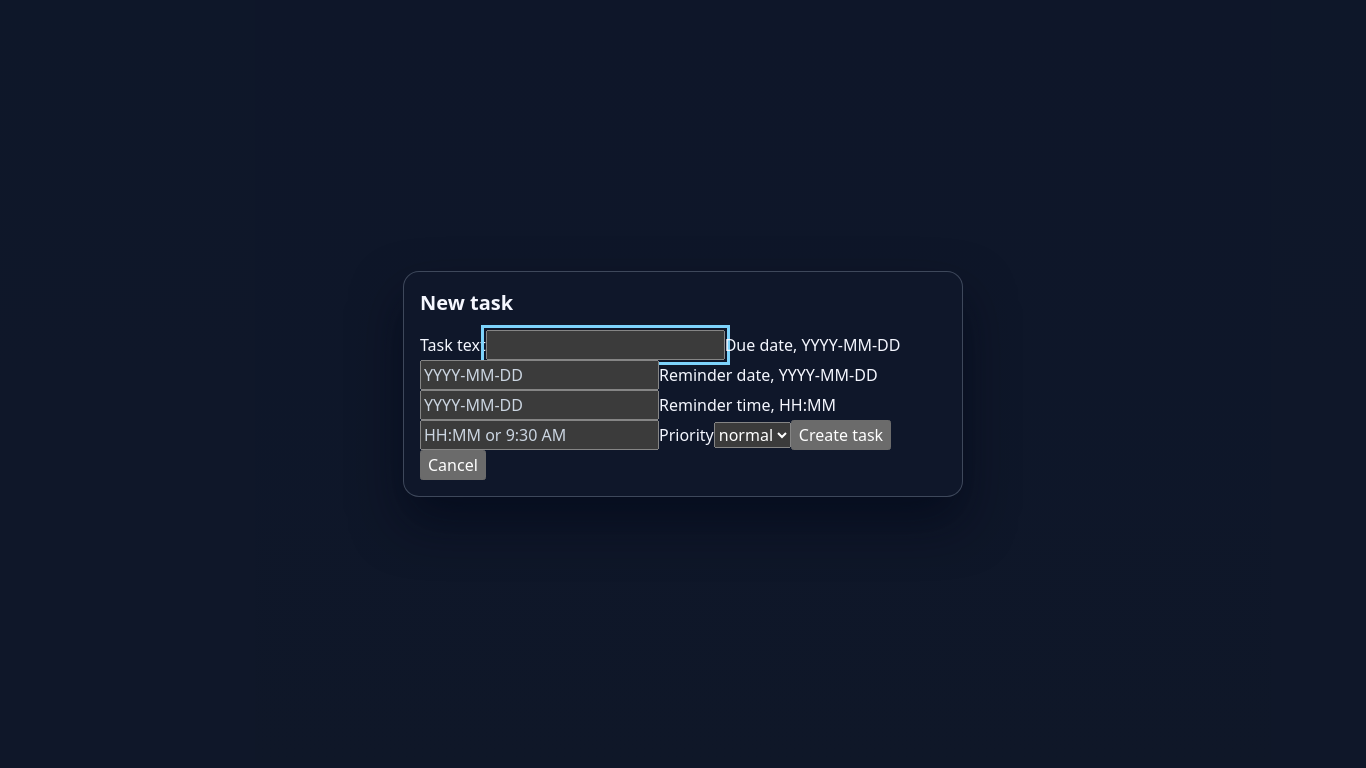
it: new task dialogs › refuses a reminder date without a reminder time instead of silently dropping it
This screenshot has width=1366, height=768.
In the field labelled "Task text": (605, 345) [486,330,725,360], type "Plan"
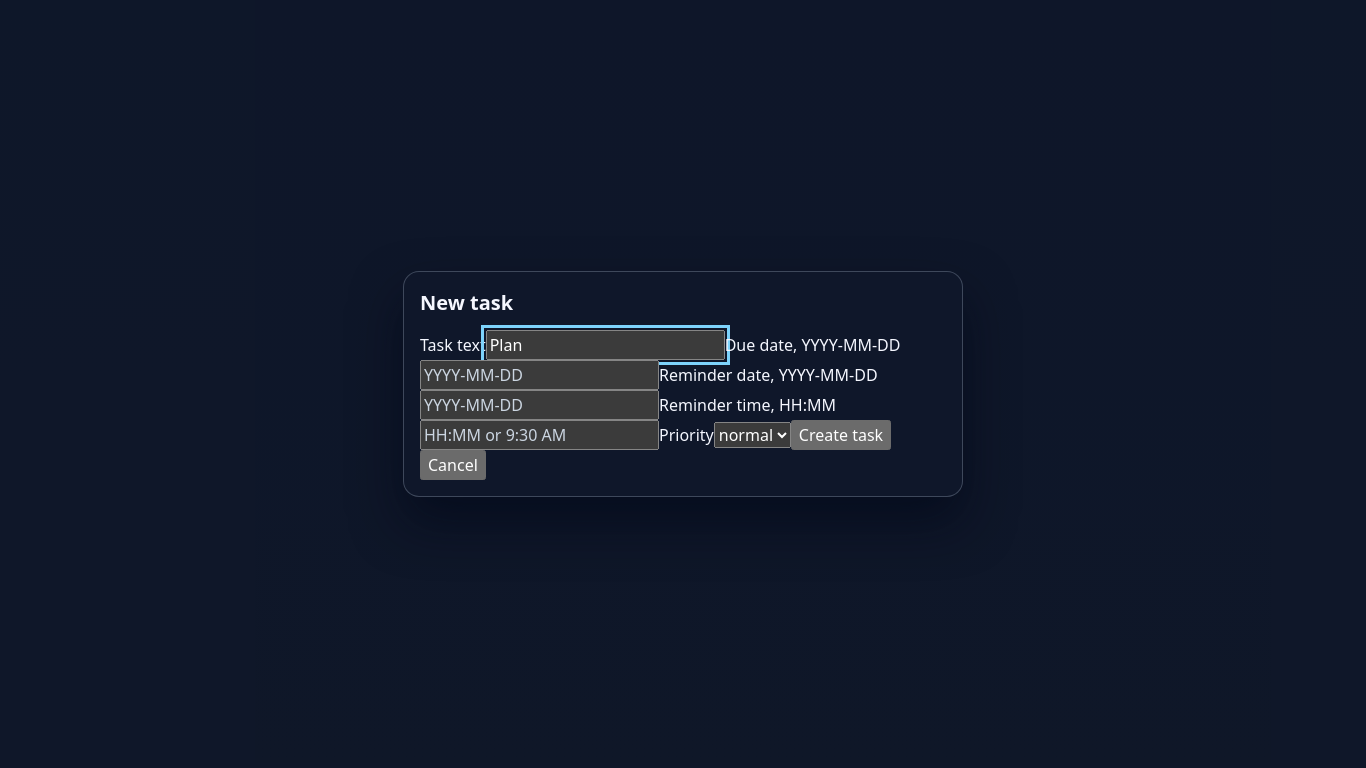
In the field labelled "Reminder date, YYYY-MM-DD": (540, 405) [420,390,659,420], type "2026-11-01"
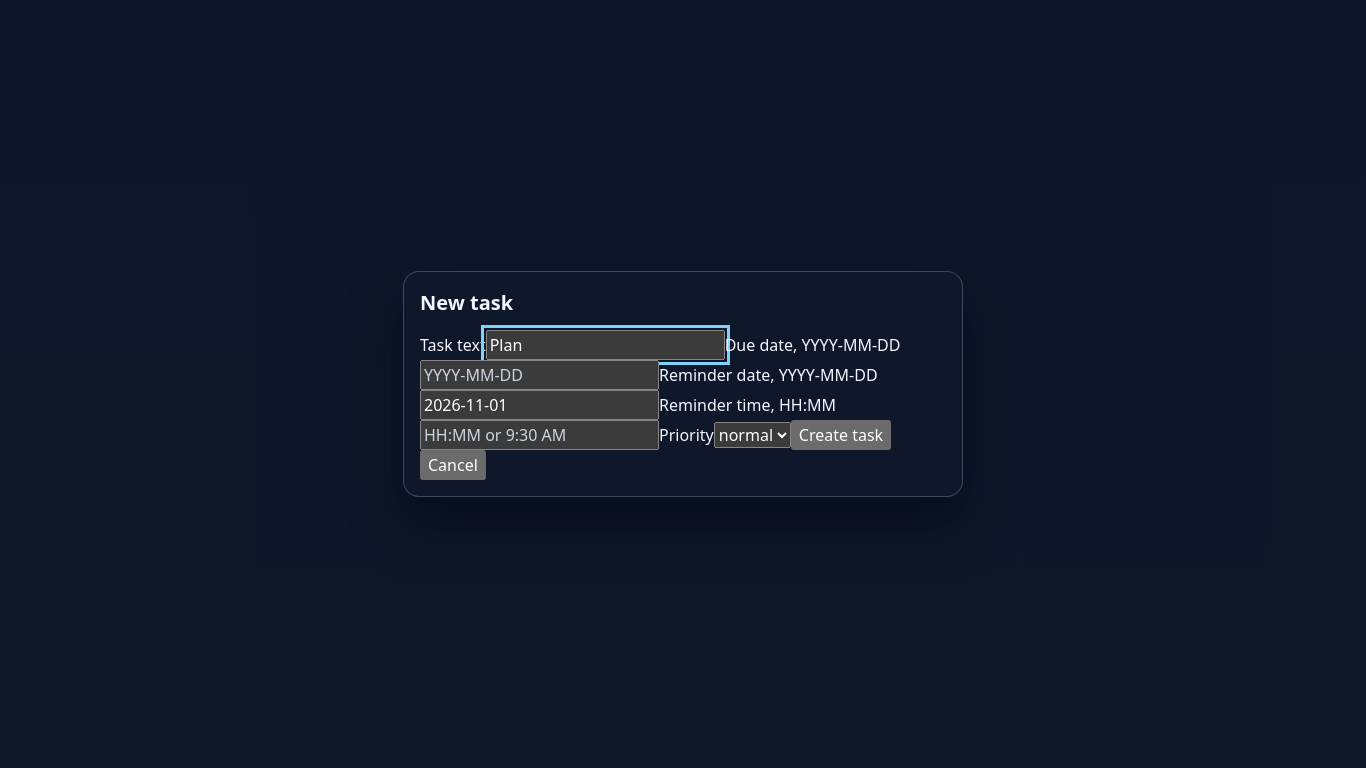
Click the button "Create task": (841, 435) [791,420,891,450]
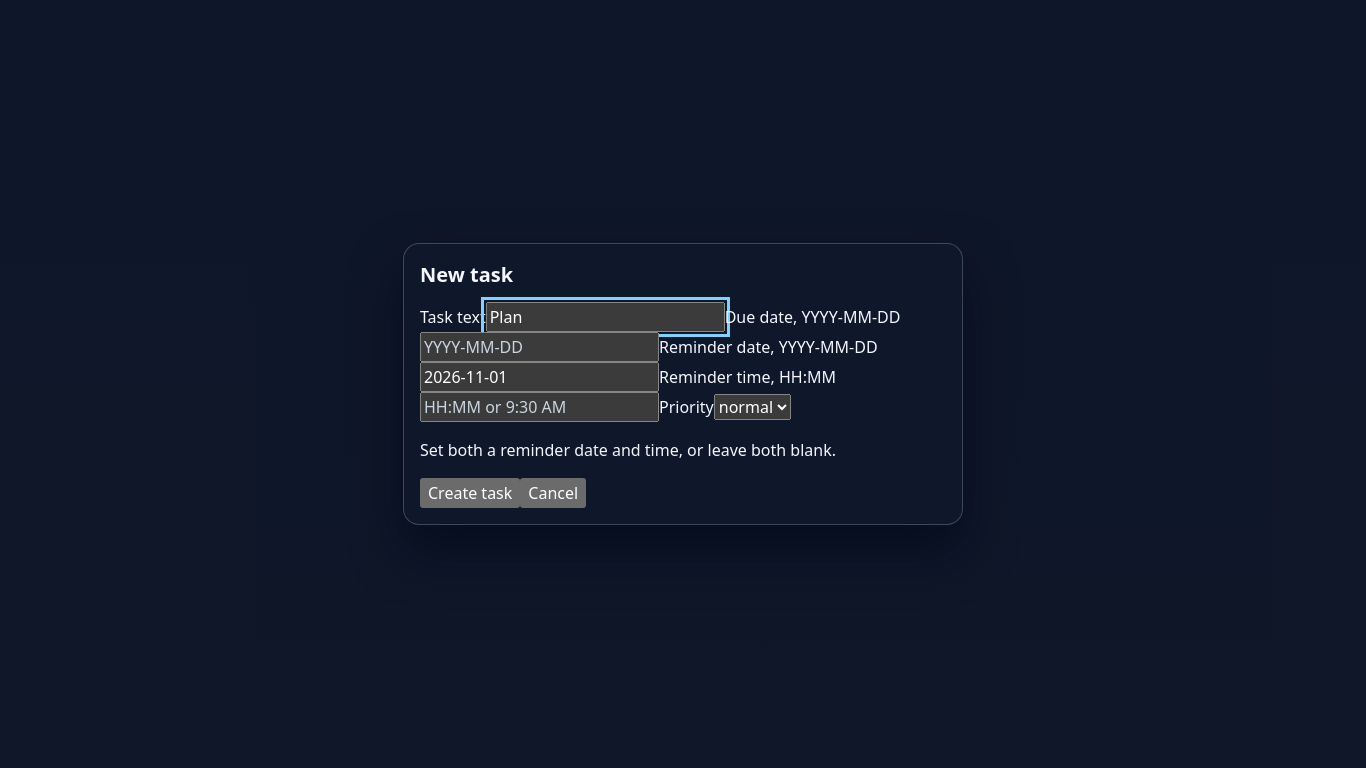
Expected: the message shows "Set both a reminder date and time", [420,439,836,461]
